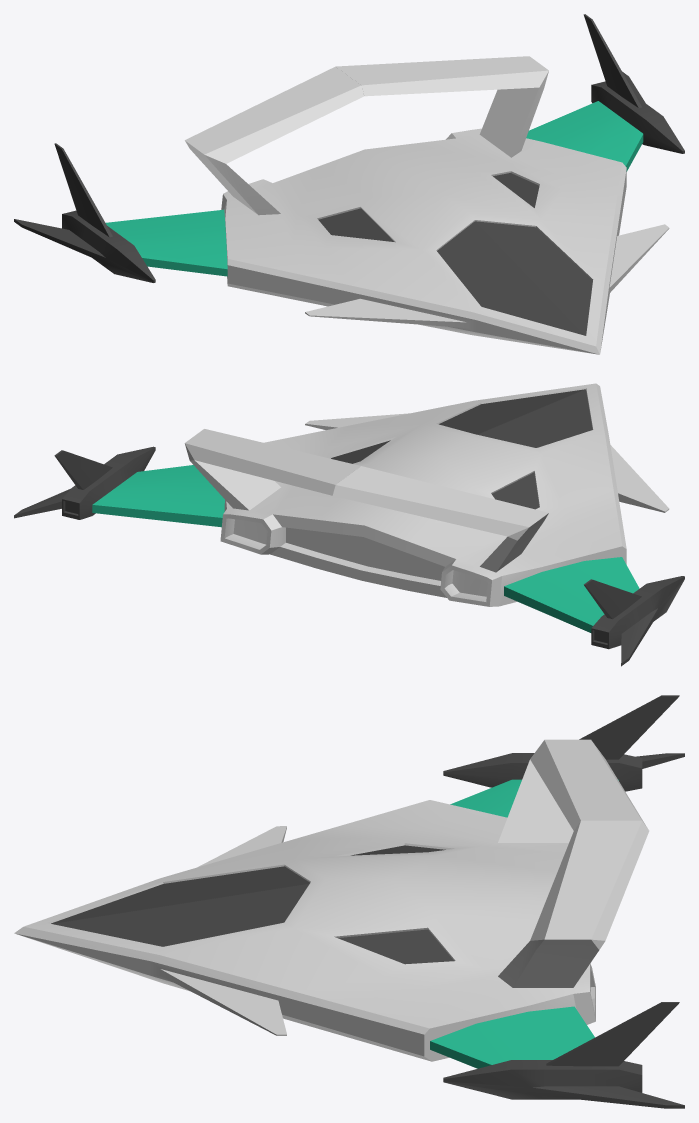
The model's file is ship_17.fbx.
3 views of the same model, one above another, from view 1: azimuth 30°, elevation 25°; view 2: azimuth 150°, elevation 25°; view 3: azimuth 270°, elevation 25° (orthographic). The views are drawn at different scales.
Parts seen in each view (by area): view 1: ship_17; view 2: ship_17; view 3: ship_17.
Part boxes in pixels (bbox=[...]): ship_17: bbox=[14, 14, 684, 354]; ship_17: bbox=[14, 383, 684, 666]; ship_17: bbox=[14, 695, 684, 1108].
Size of the model in its own units: 1147 by 211 by 925.
